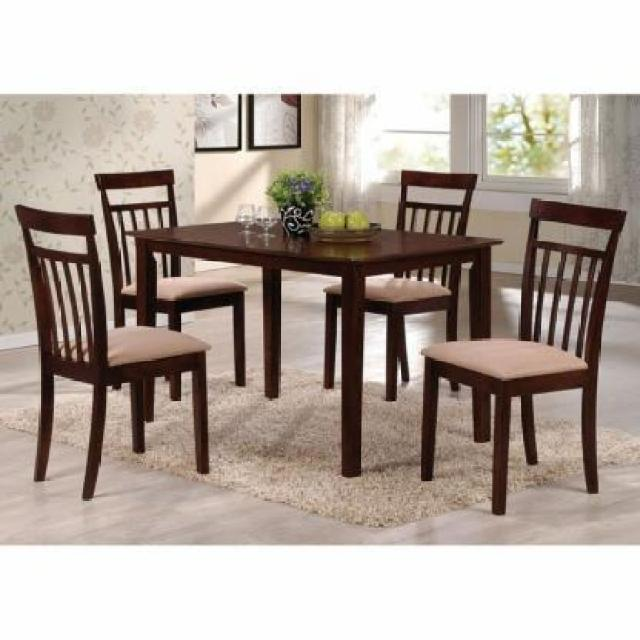tables: (123, 217, 505, 477)
